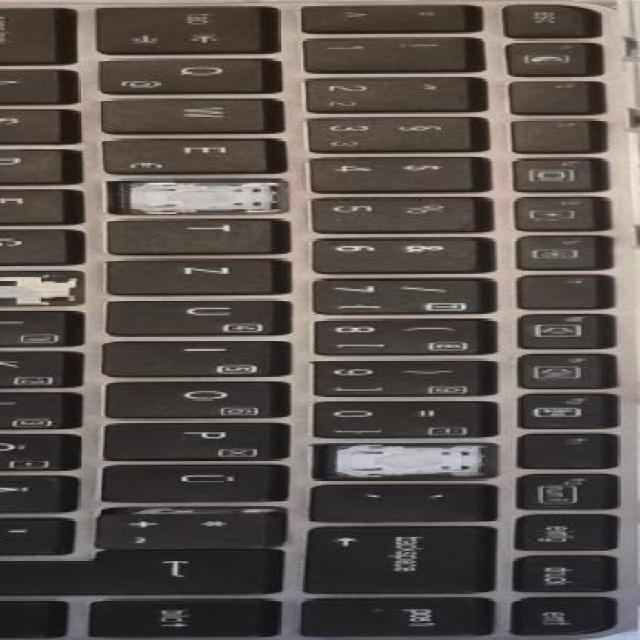Keyboard problems: (315, 443, 497, 478), (115, 180, 288, 212), (0, 271, 82, 306)
